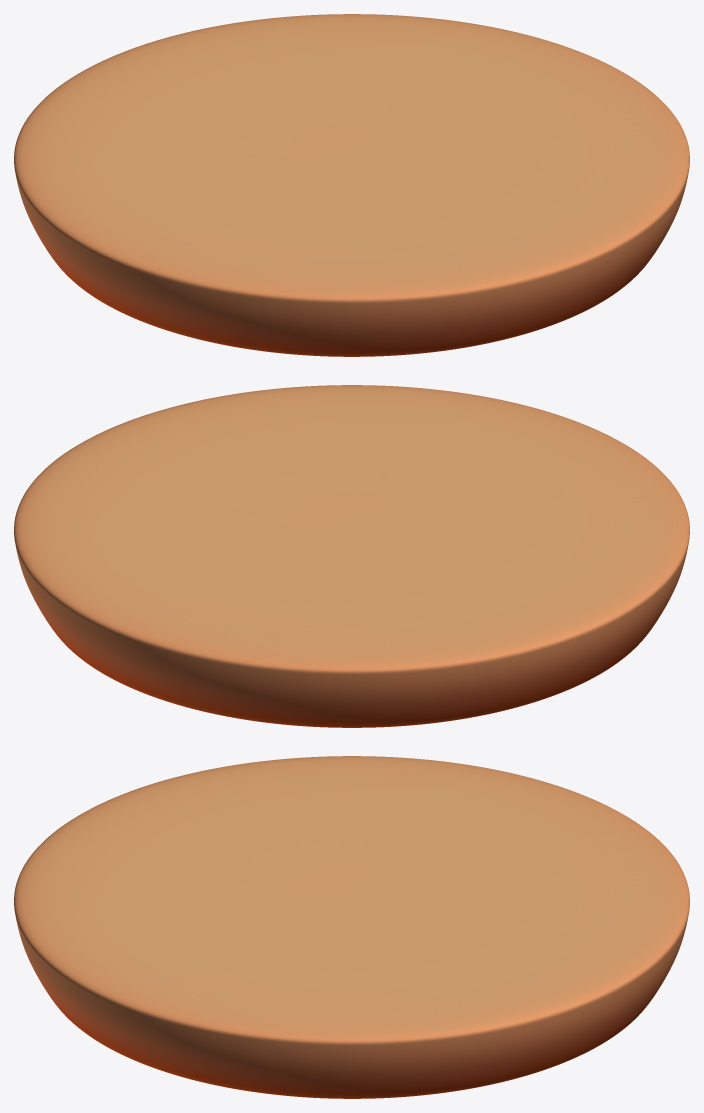
The model's file is bread-down-part.fbx.
3 renders of one model, top to bottom at view 1: azimuth 30°, elevation 25°; view 2: azimuth 150°, elevation 25°; view 3: azimuth 270°, elevation 25°, orthographic.
Parts seen in each view (by area): view 1: donja; view 2: donja; view 3: donja.
Part boxes in pixels (left/top/right/bottom): donja: left=14, top=14, right=689, bottom=356; donja: left=14, top=385, right=689, bottom=727; donja: left=14, top=756, right=689, bottom=1098.
Size of the model in its own units: 249 by 32.48 by 249.
Materials: 1 (1 with a texture image).
